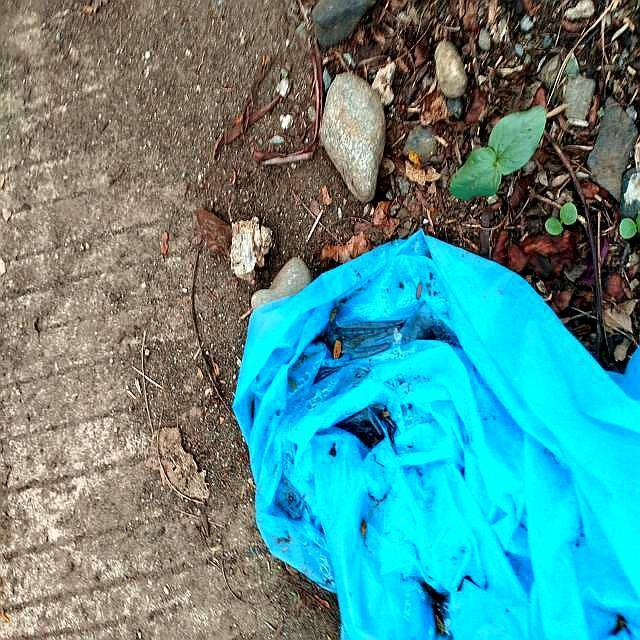Non-biodegradable: (231, 228, 639, 638)
